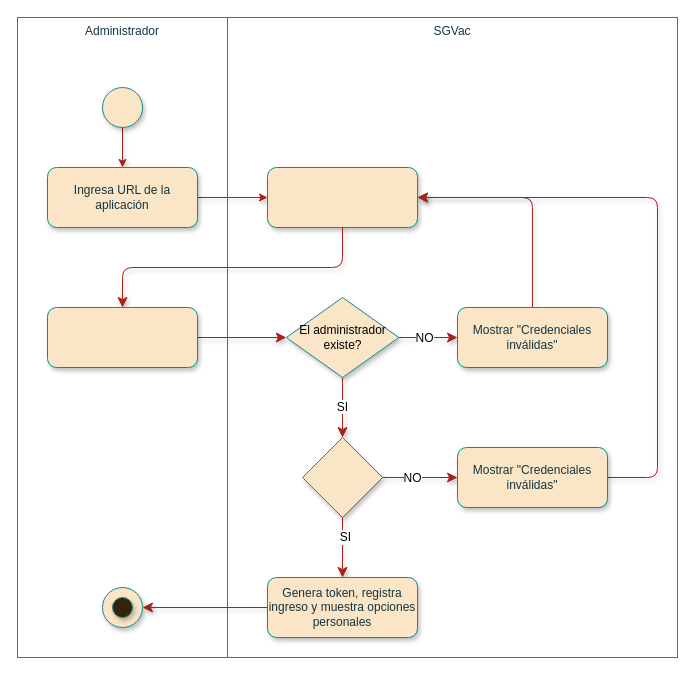
Image size: 695x675. Some labels were removed from this diagram. Each missing label, with the centre of its shape:
Contraseña válida?: (343,478)
Introduce su nombre de usuario y contraseña: (123,338)
Muestra al administrador un formulario de login: (343,198)
